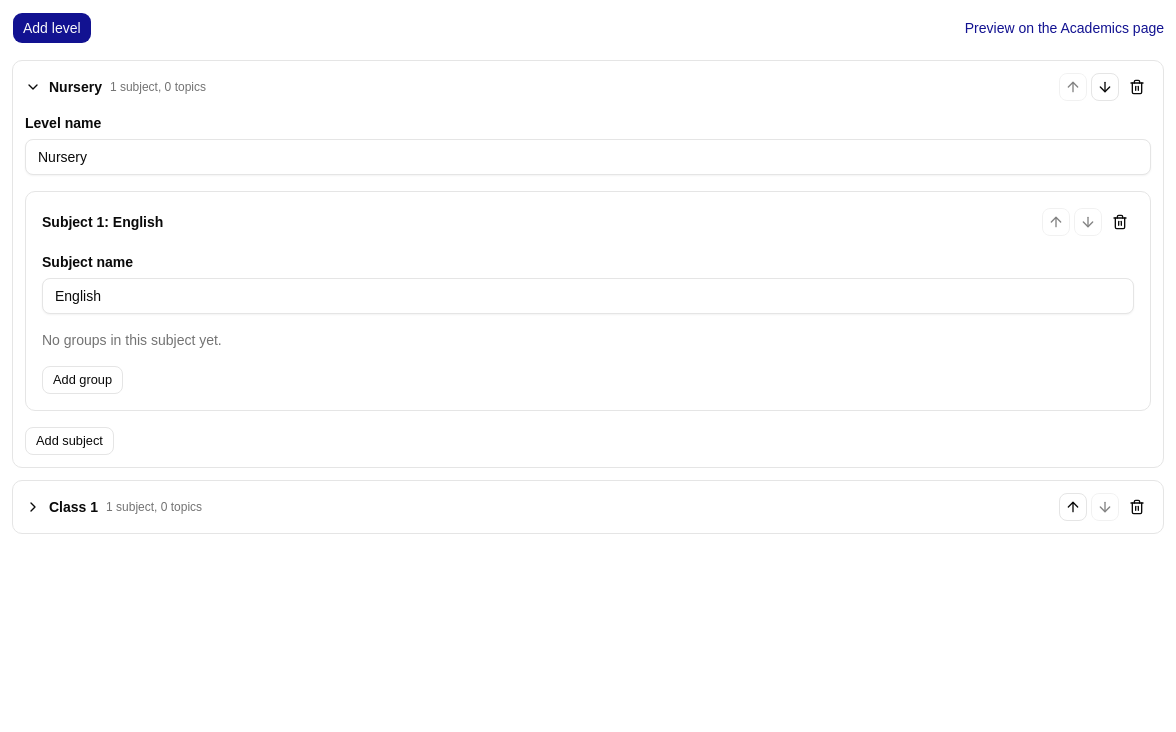
Test: SyllabusEditor (014b) › only one level is open at a time: opening another closes the first
This screenshot has width=1176, height=732.
Step 1. Click the button "Class 1 1 subject, 0 topics" → (74, 507), box [25,497,1051,517]
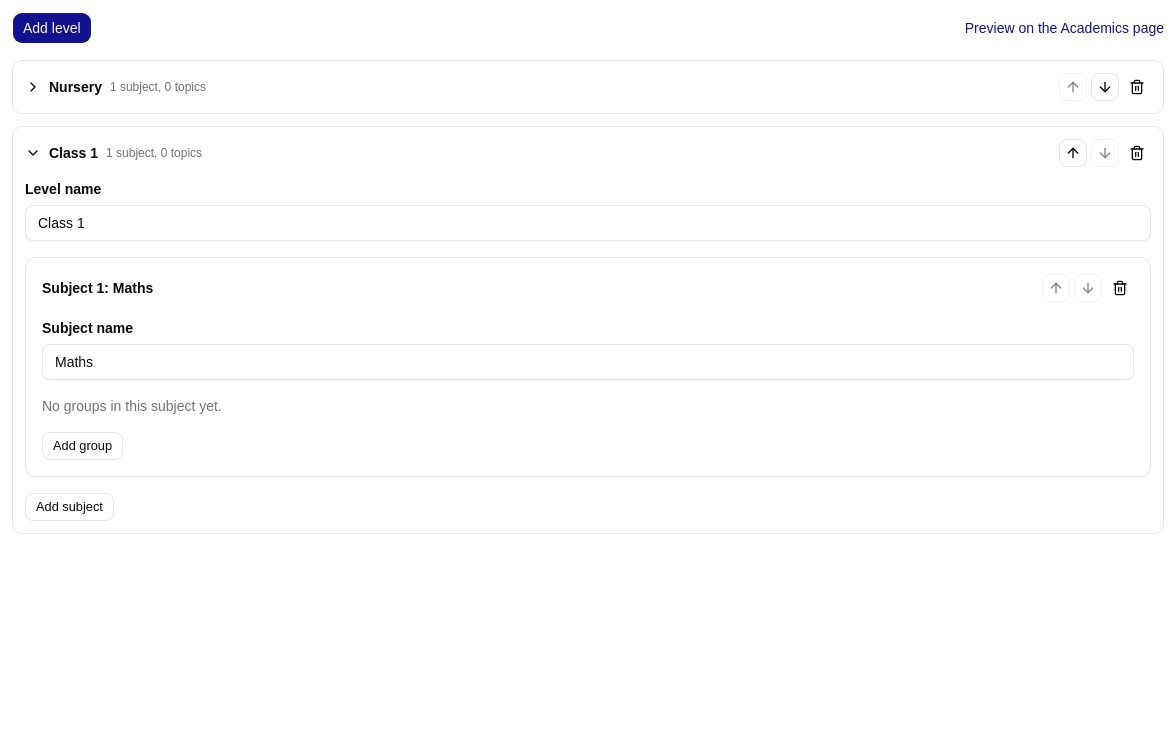
Check: the number of elements with test id "syllabus-subject" is 1, box [25,257,1151,477]
Check: the field labelled "Subject name" holds "Maths", box [42,344,1134,380]
